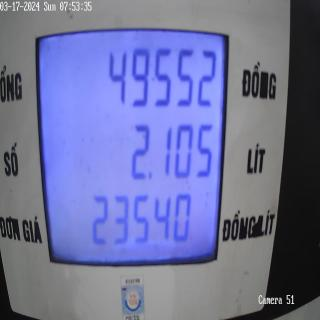screen: (32, 9, 233, 273)
